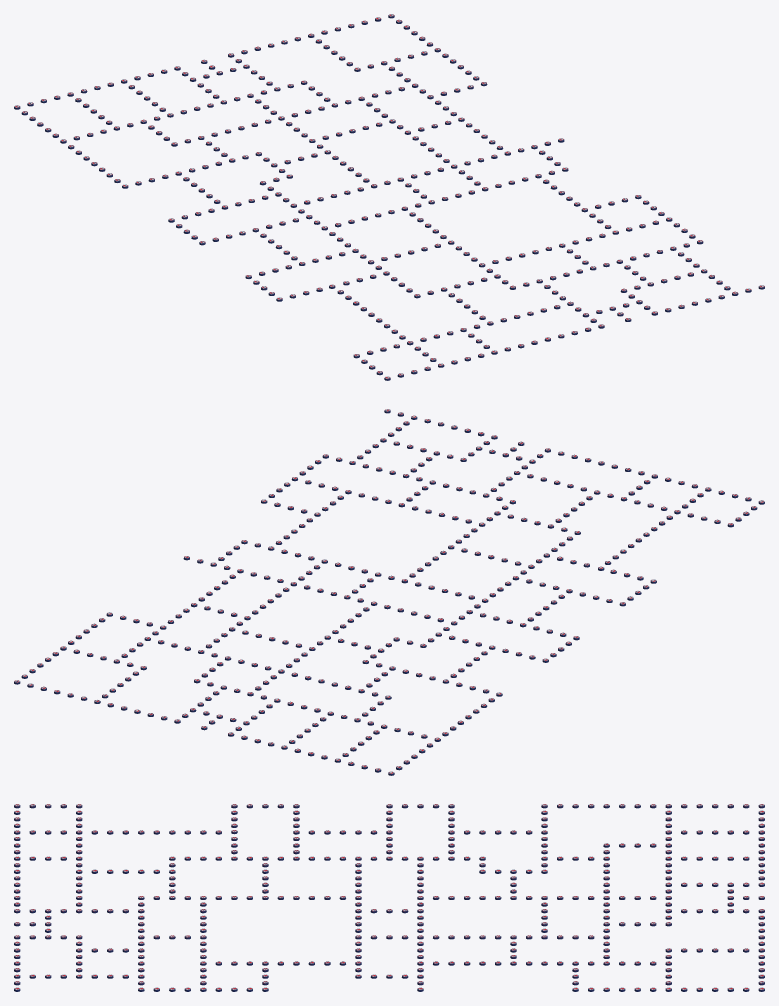
Rendered from caps.glb.
3 renders of one model, top to bottom at view 1: azimuth 30°, elevation 25°; view 2: azimuth 150°, elevation 25°; view 3: azimuth 270°, elevation 25°, orthographic.
Size of the model in its own units: 50.3 by 0.2182 by 85.7.
2 materials, 1 textured.
